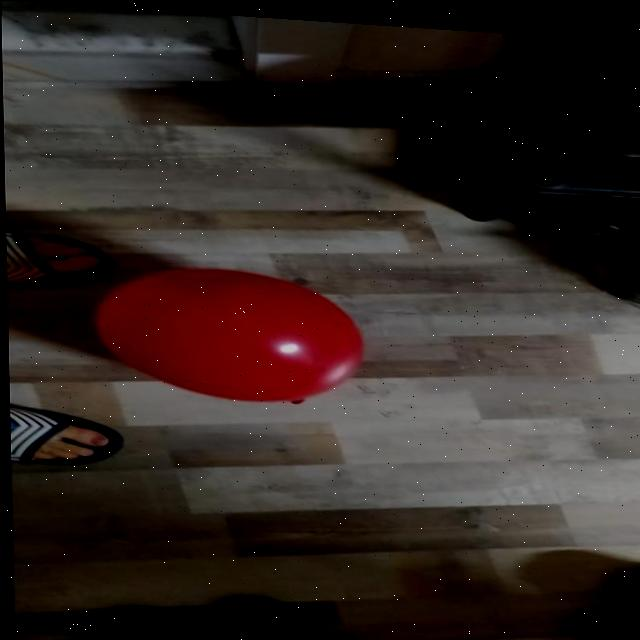balloon: (84, 251, 369, 416)
